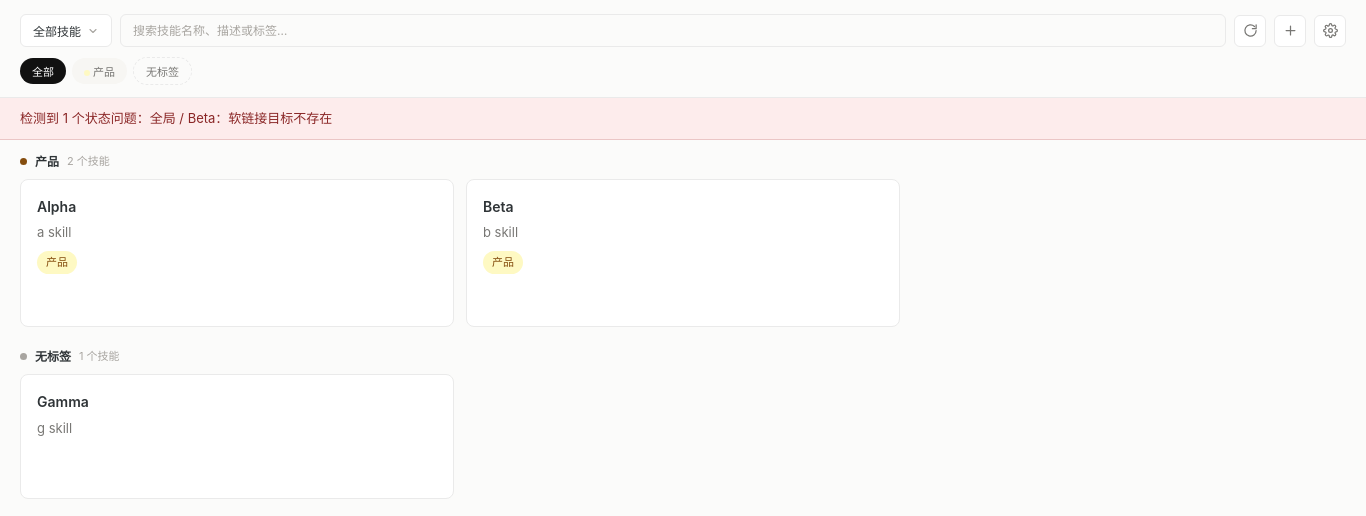
Test: I1 卡片键盘可达 › 目标下拉按钮报告展开状态
The image size is (1366, 516).
Check: the button with class "skill-card" showing "Alpha a skill 产品" is shown, box [20,179,454,327]
Click the button "全部技能".
click(66, 30)  # box [20,14,112,47]
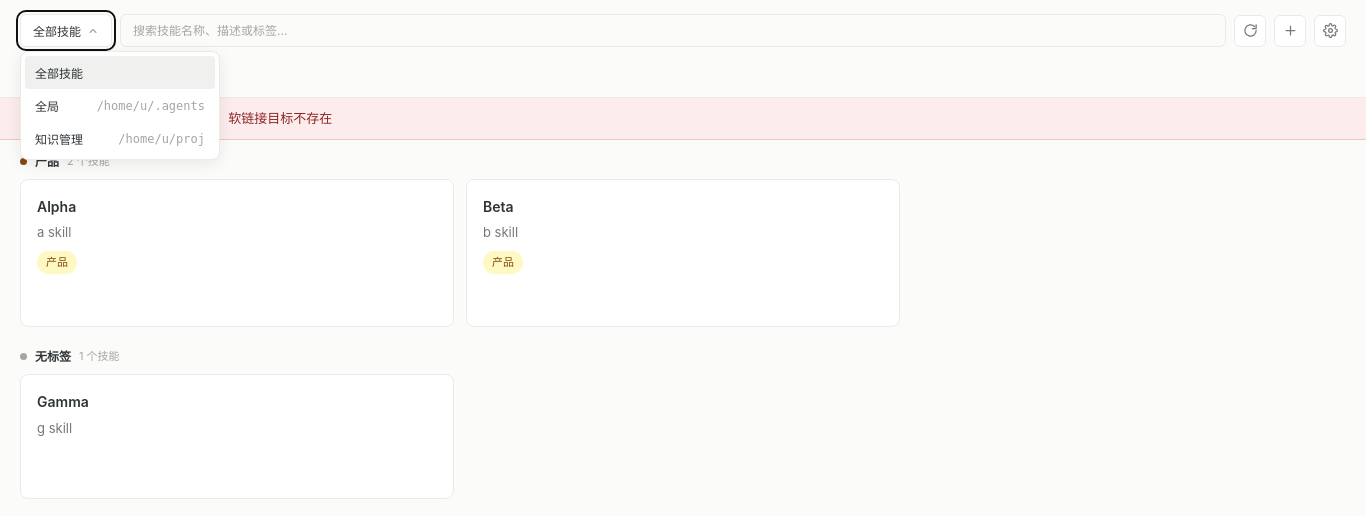
Check: the number of options is 3, box [25,56,215,89]; [25,89,215,122]; [25,122,215,155]
